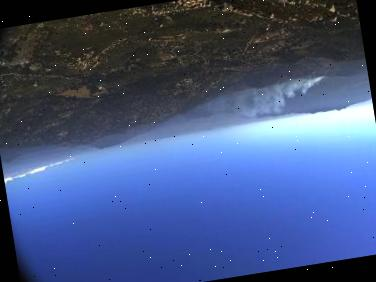smoke: (181, 72, 329, 140)
